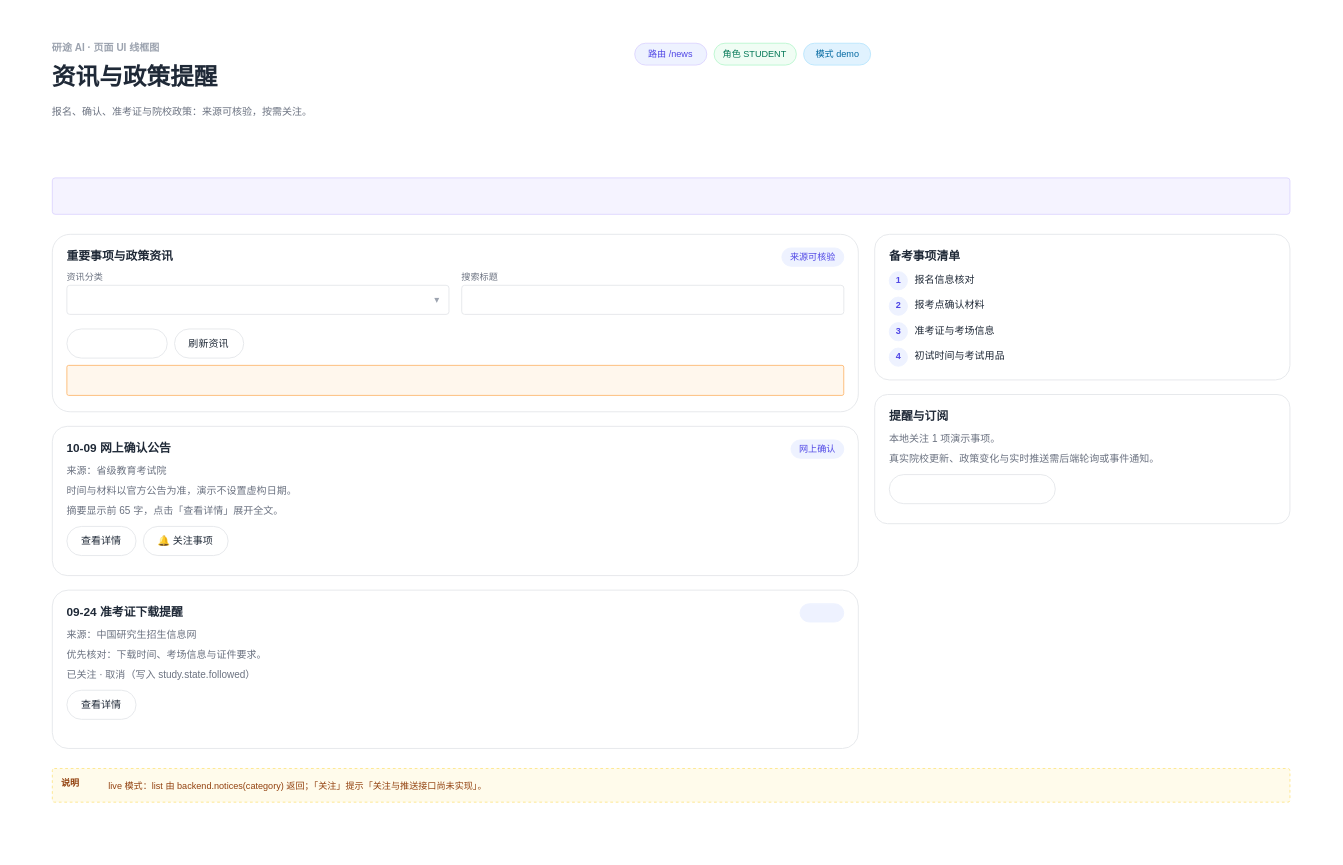
Some shapes in this 1343 by 865 pixel diagram are drawn without their labels. The box of each missing label's shape, as (x1, y1, x2, y2) in pixels:
ⓘ 当前为前端演示。示例院校、学习资料与 AI 回复均不代表真实业务结果；本地学习操作仅保存在本浏览器。: (51, 177, 1290, 214)
☑ 只看本地关注: (66, 328, 167, 358)
全部 ▾: (66, 284, 449, 314)
准考证: (799, 603, 844, 622)
切换分类会重新拉取；演示模式只做本地过滤。: (66, 364, 844, 395)
前往中国研究生招生信息网 →: (888, 474, 1055, 504)
输入关键词筛选: (461, 284, 844, 314)
